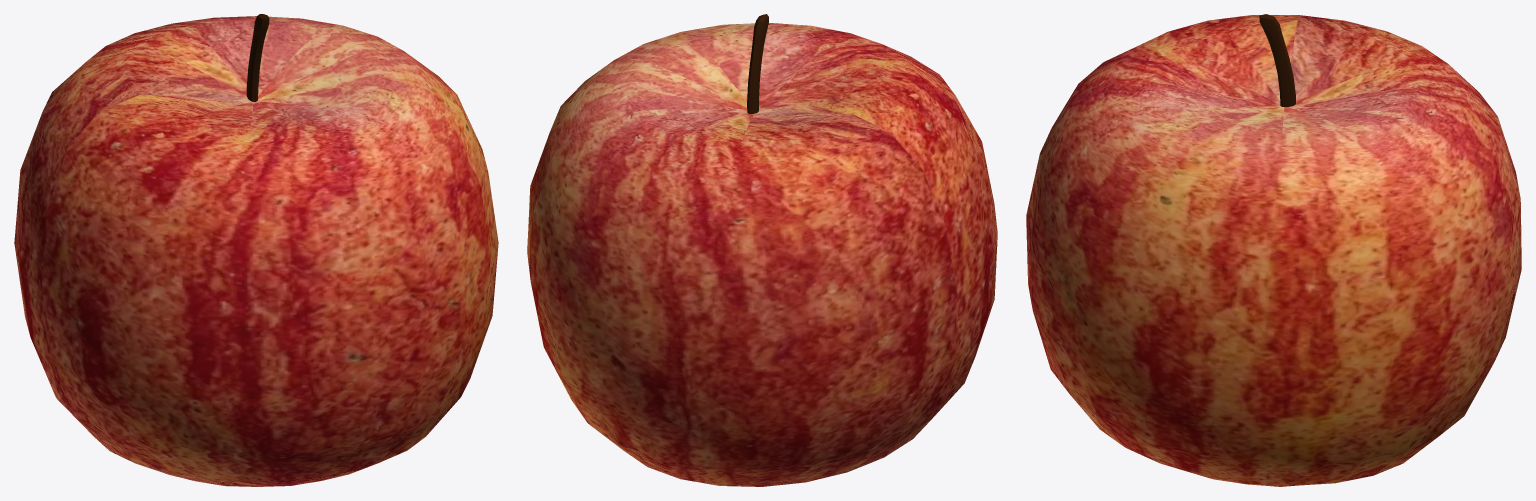
File: apple1.glb
3 views of the same model, side by side, from view 1: azimuth 30°, elevation 25°; view 2: azimuth 150°, elevation 25°; view 3: azimuth 270°, elevation 25° (orthographic). The views are drawn at different scales.
Visible parts, largest first — view 1: AppleBody.002; view 2: AppleBody.002; view 3: AppleBody.002.
Boxes of the visible parts, x1,y1,x2,y2 form: AppleBody.002: (14,14,498,486); AppleBody.002: (527,14,997,486); AppleBody.002: (1026,14,1521,486).
Size of the model in its own units: 0.2662 by 0.2675 by 0.2773.
2 materials, 1 textured.
